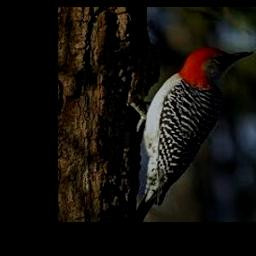Woodpecker: (132, 46, 253, 222)
